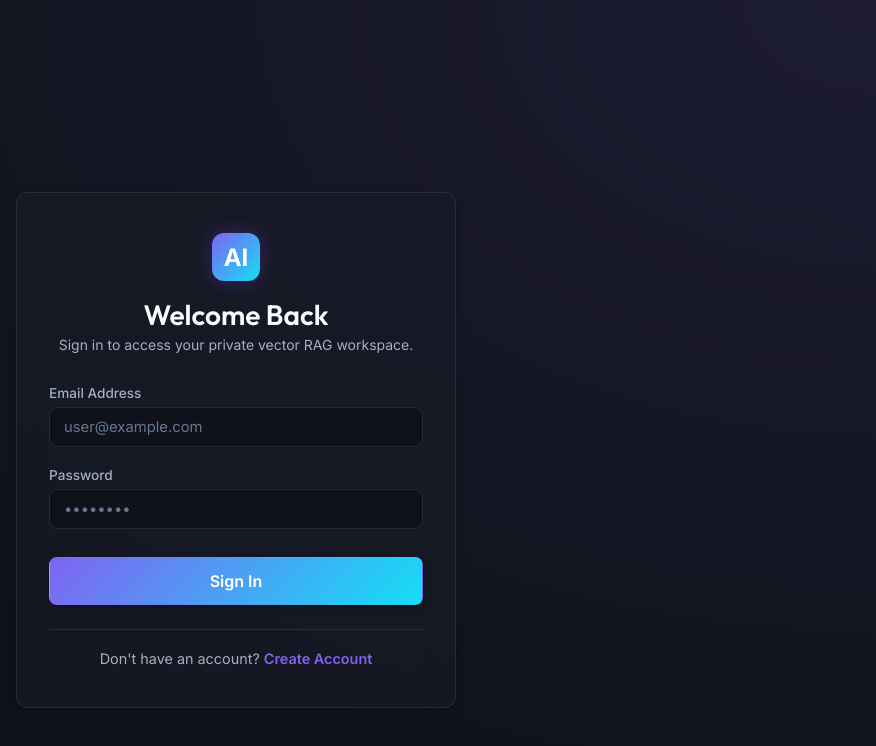
Scenario: Authentication Pages & Component Tests › LoginPage Component › should show validation error when submitting empty form
Click the button "Sign In": (236, 581) [49, 557, 423, 605]
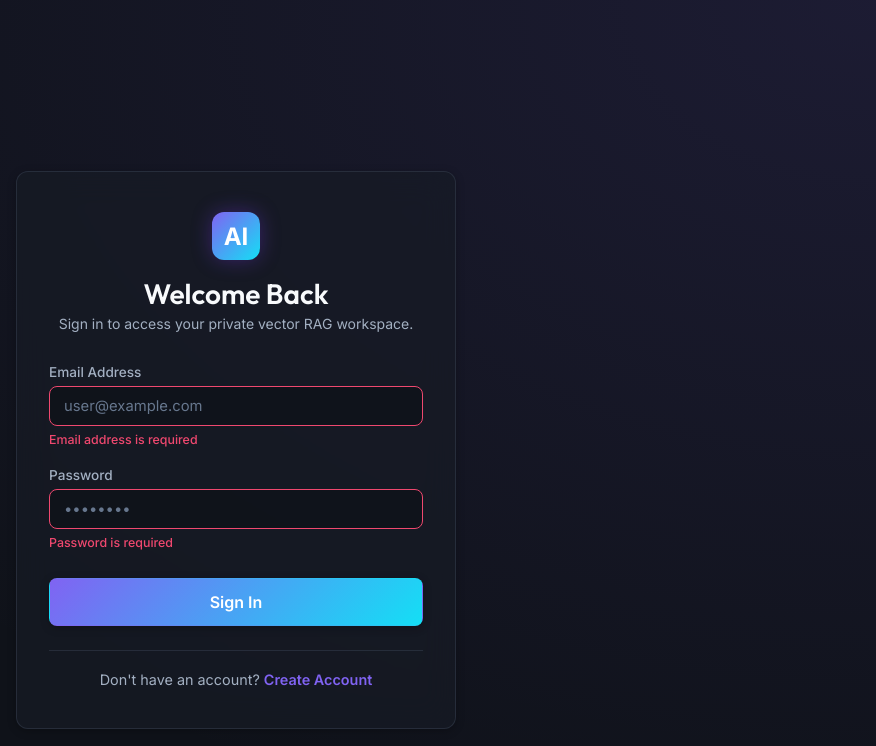
Expected: the text "Email address is required" is shown, [49, 432, 198, 447]
Expected: the text "Password is required" is shown, [49, 535, 173, 550]
